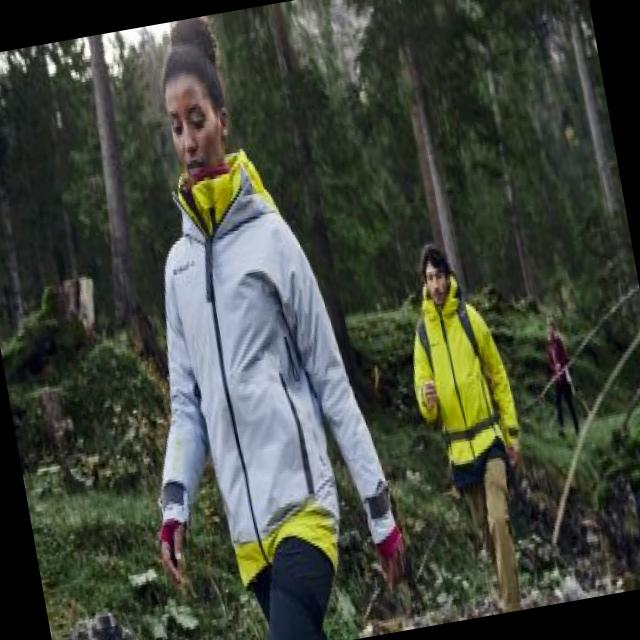Jacket: (84, 166, 406, 605), (394, 276, 526, 486)
